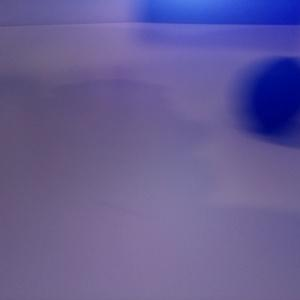dead_ball: (237, 57, 300, 132)
